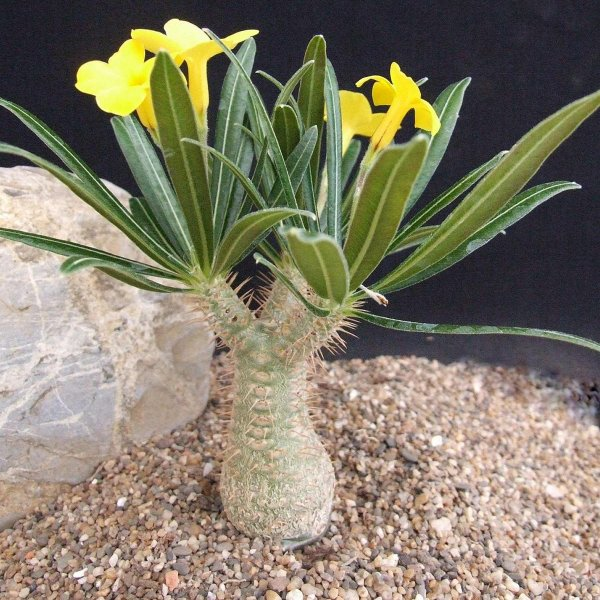Pachypodium rosulatum: (110, 49, 462, 544)
